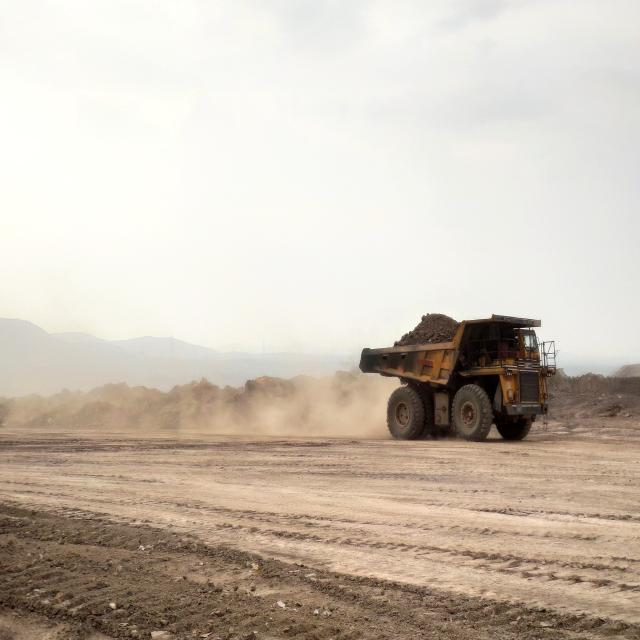dump_truck: (360, 313, 556, 440)
